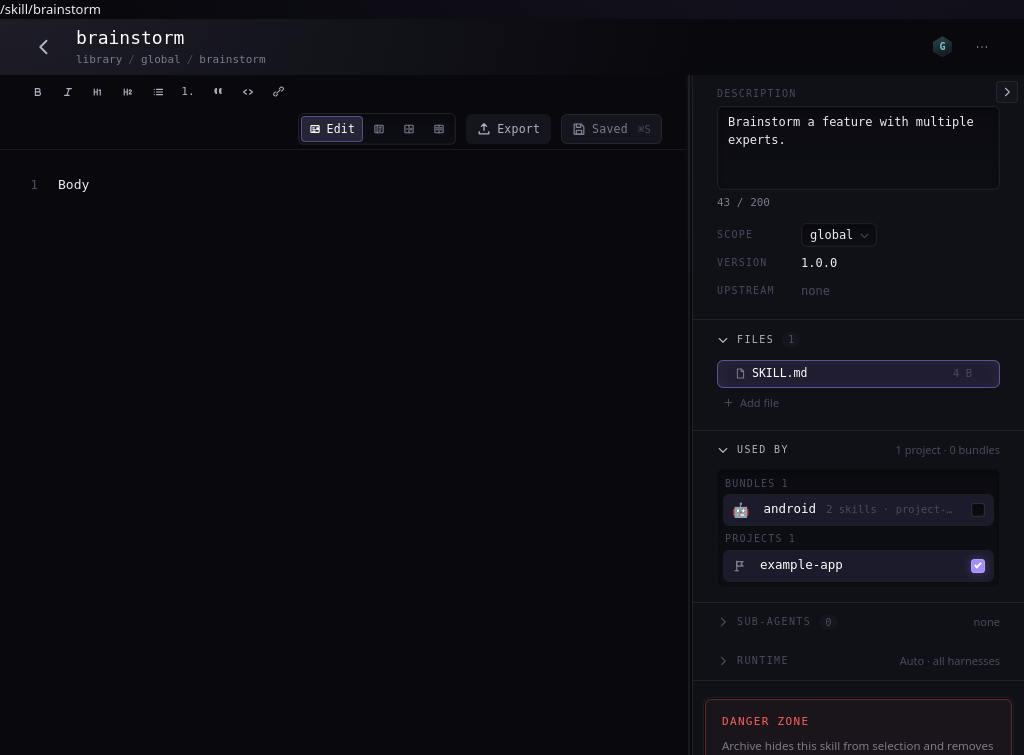
Scenario: SkillEditor — rename cascade › V2: referrers → dialog opens, grouped with the right counts and rows
Step 1. Click the button named "Rename skill name:" → {"x": 139, "y": 38}, box 72,26 -> 206,50
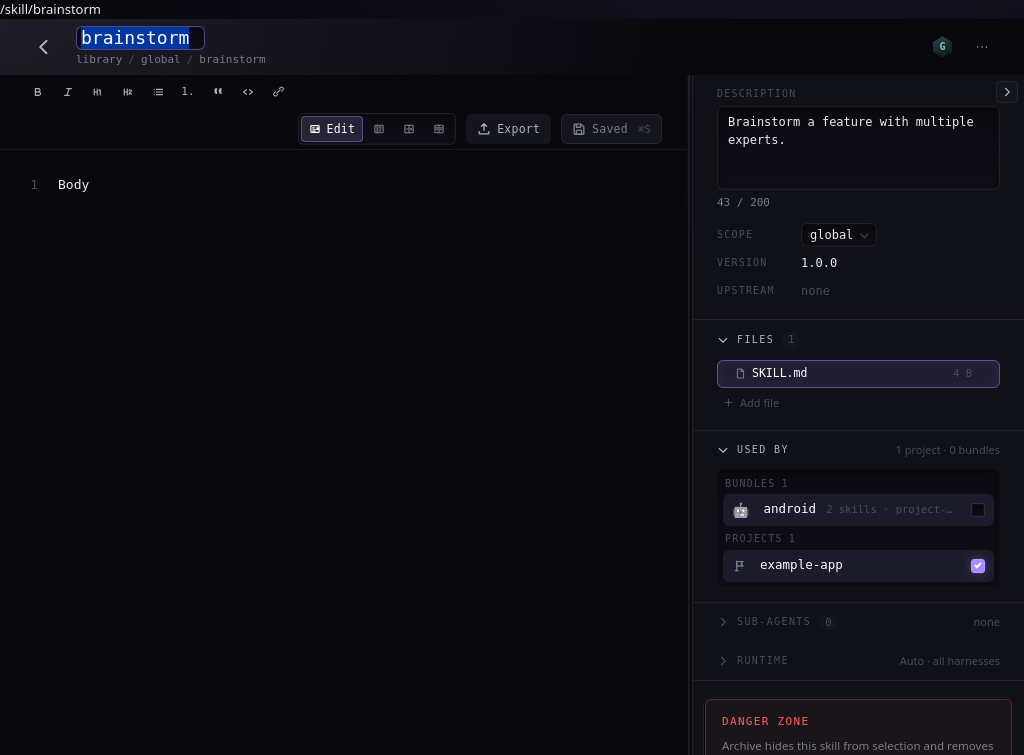
Step 2. Clear the field named "Skill name" → {"x": 141, "y": 38}, box 76,26 -> 205,50
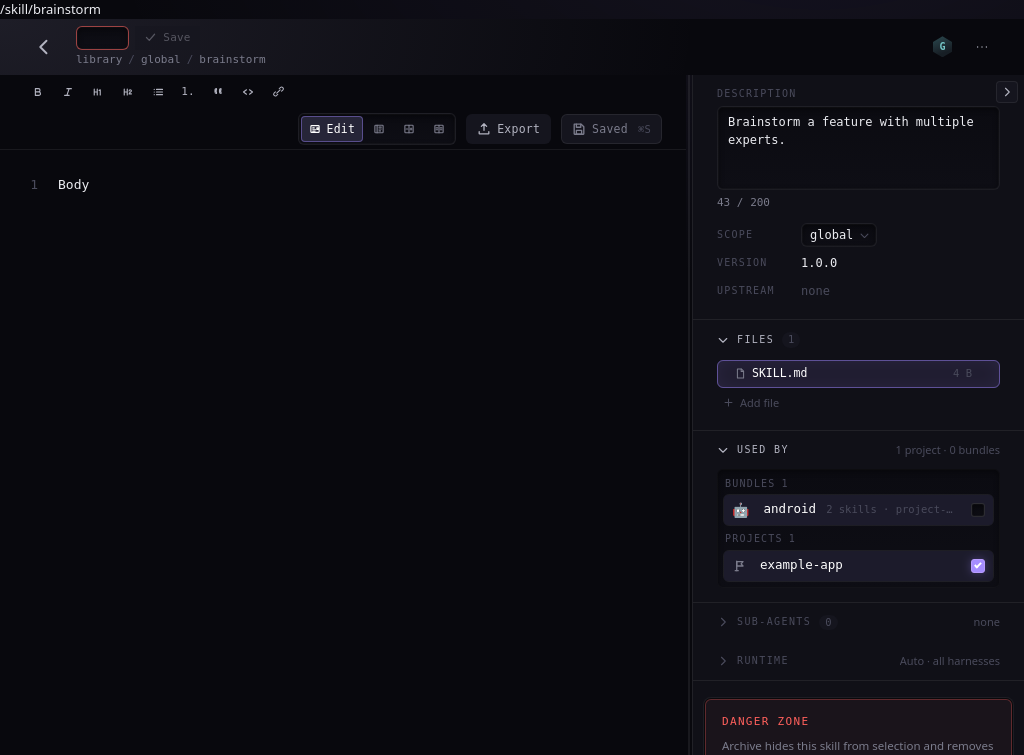
Step 3. Type "brainstorm-plus" into the field named "Skill name" → {"x": 103, "y": 38}, box 76,26 -> 129,50
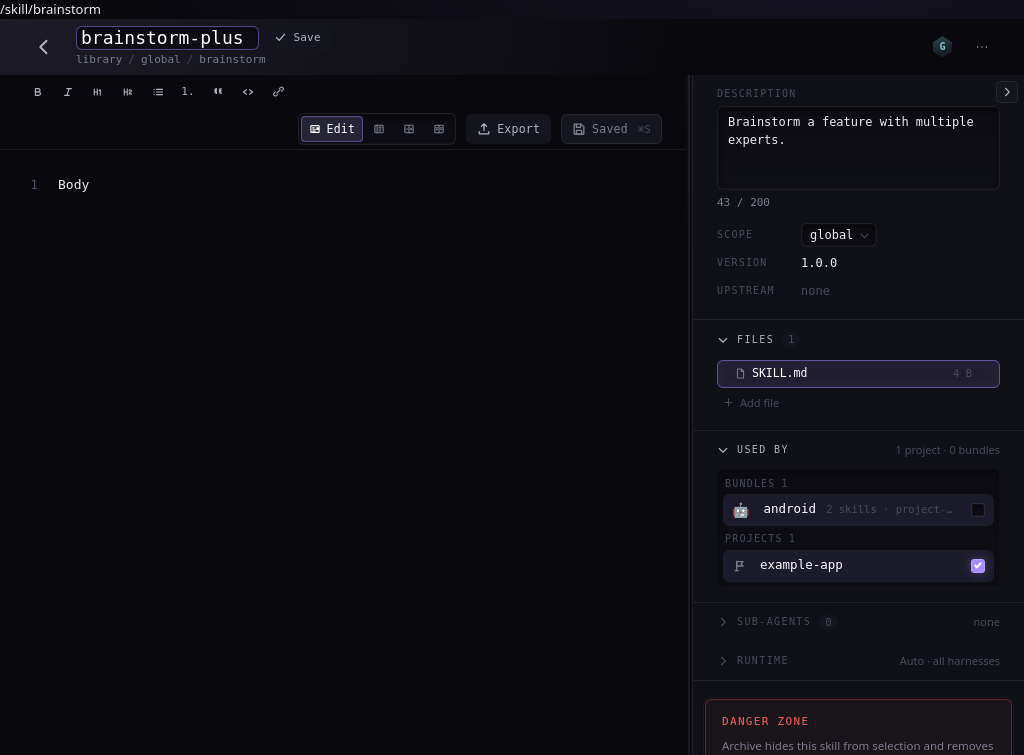
Step 4. Press Enter
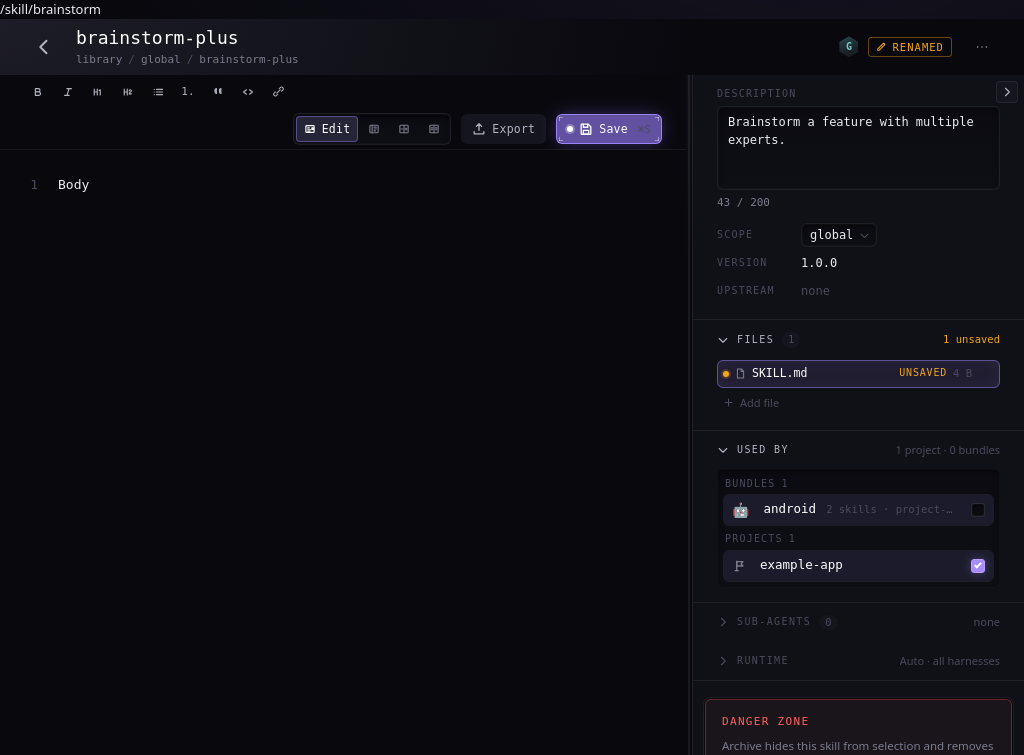
Step 5. Click the button "Save ⌘S" → {"x": 609, "y": 129}, box 556,114 -> 662,144
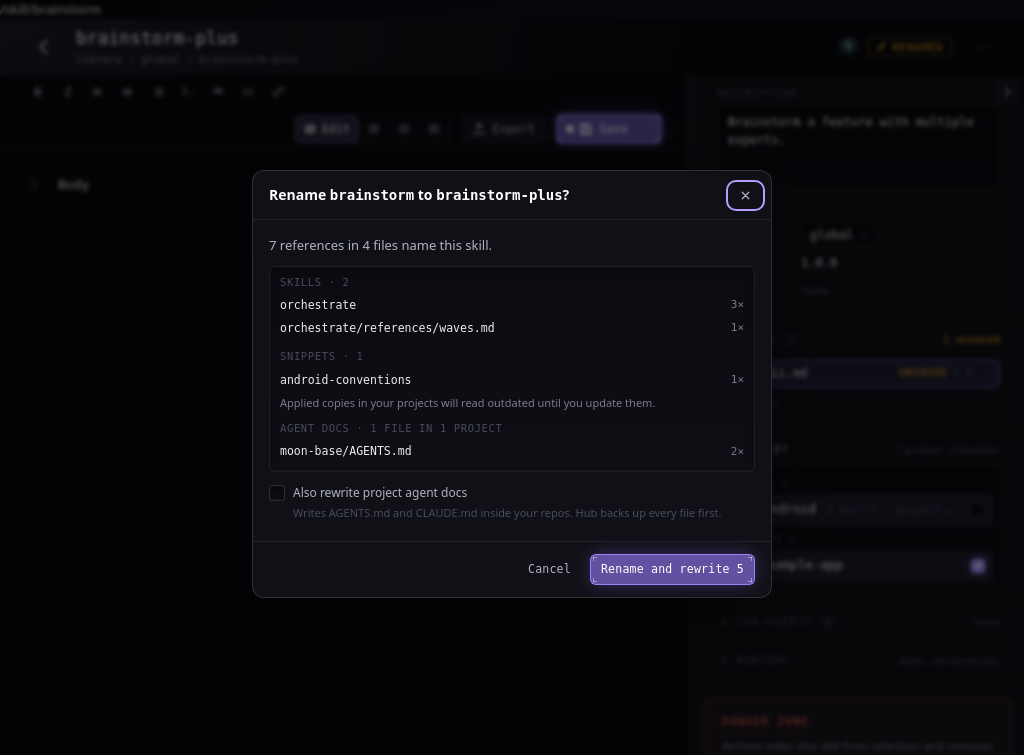
Expected: the element with test id "rename-refs-dialog" is shown, 269,236 -> 755,521
Expected: the text with test id "rename-refs-group-skills" reads "SKILLS · 2", 280,276 -> 350,288
Expected: the text with test id "rename-refs-group-snippets" reads "SNIPPETS · 1", 280,350 -> 363,362
